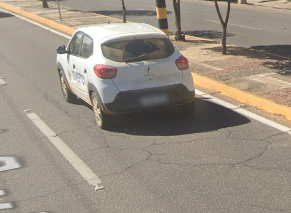car: (52, 6, 202, 142)
